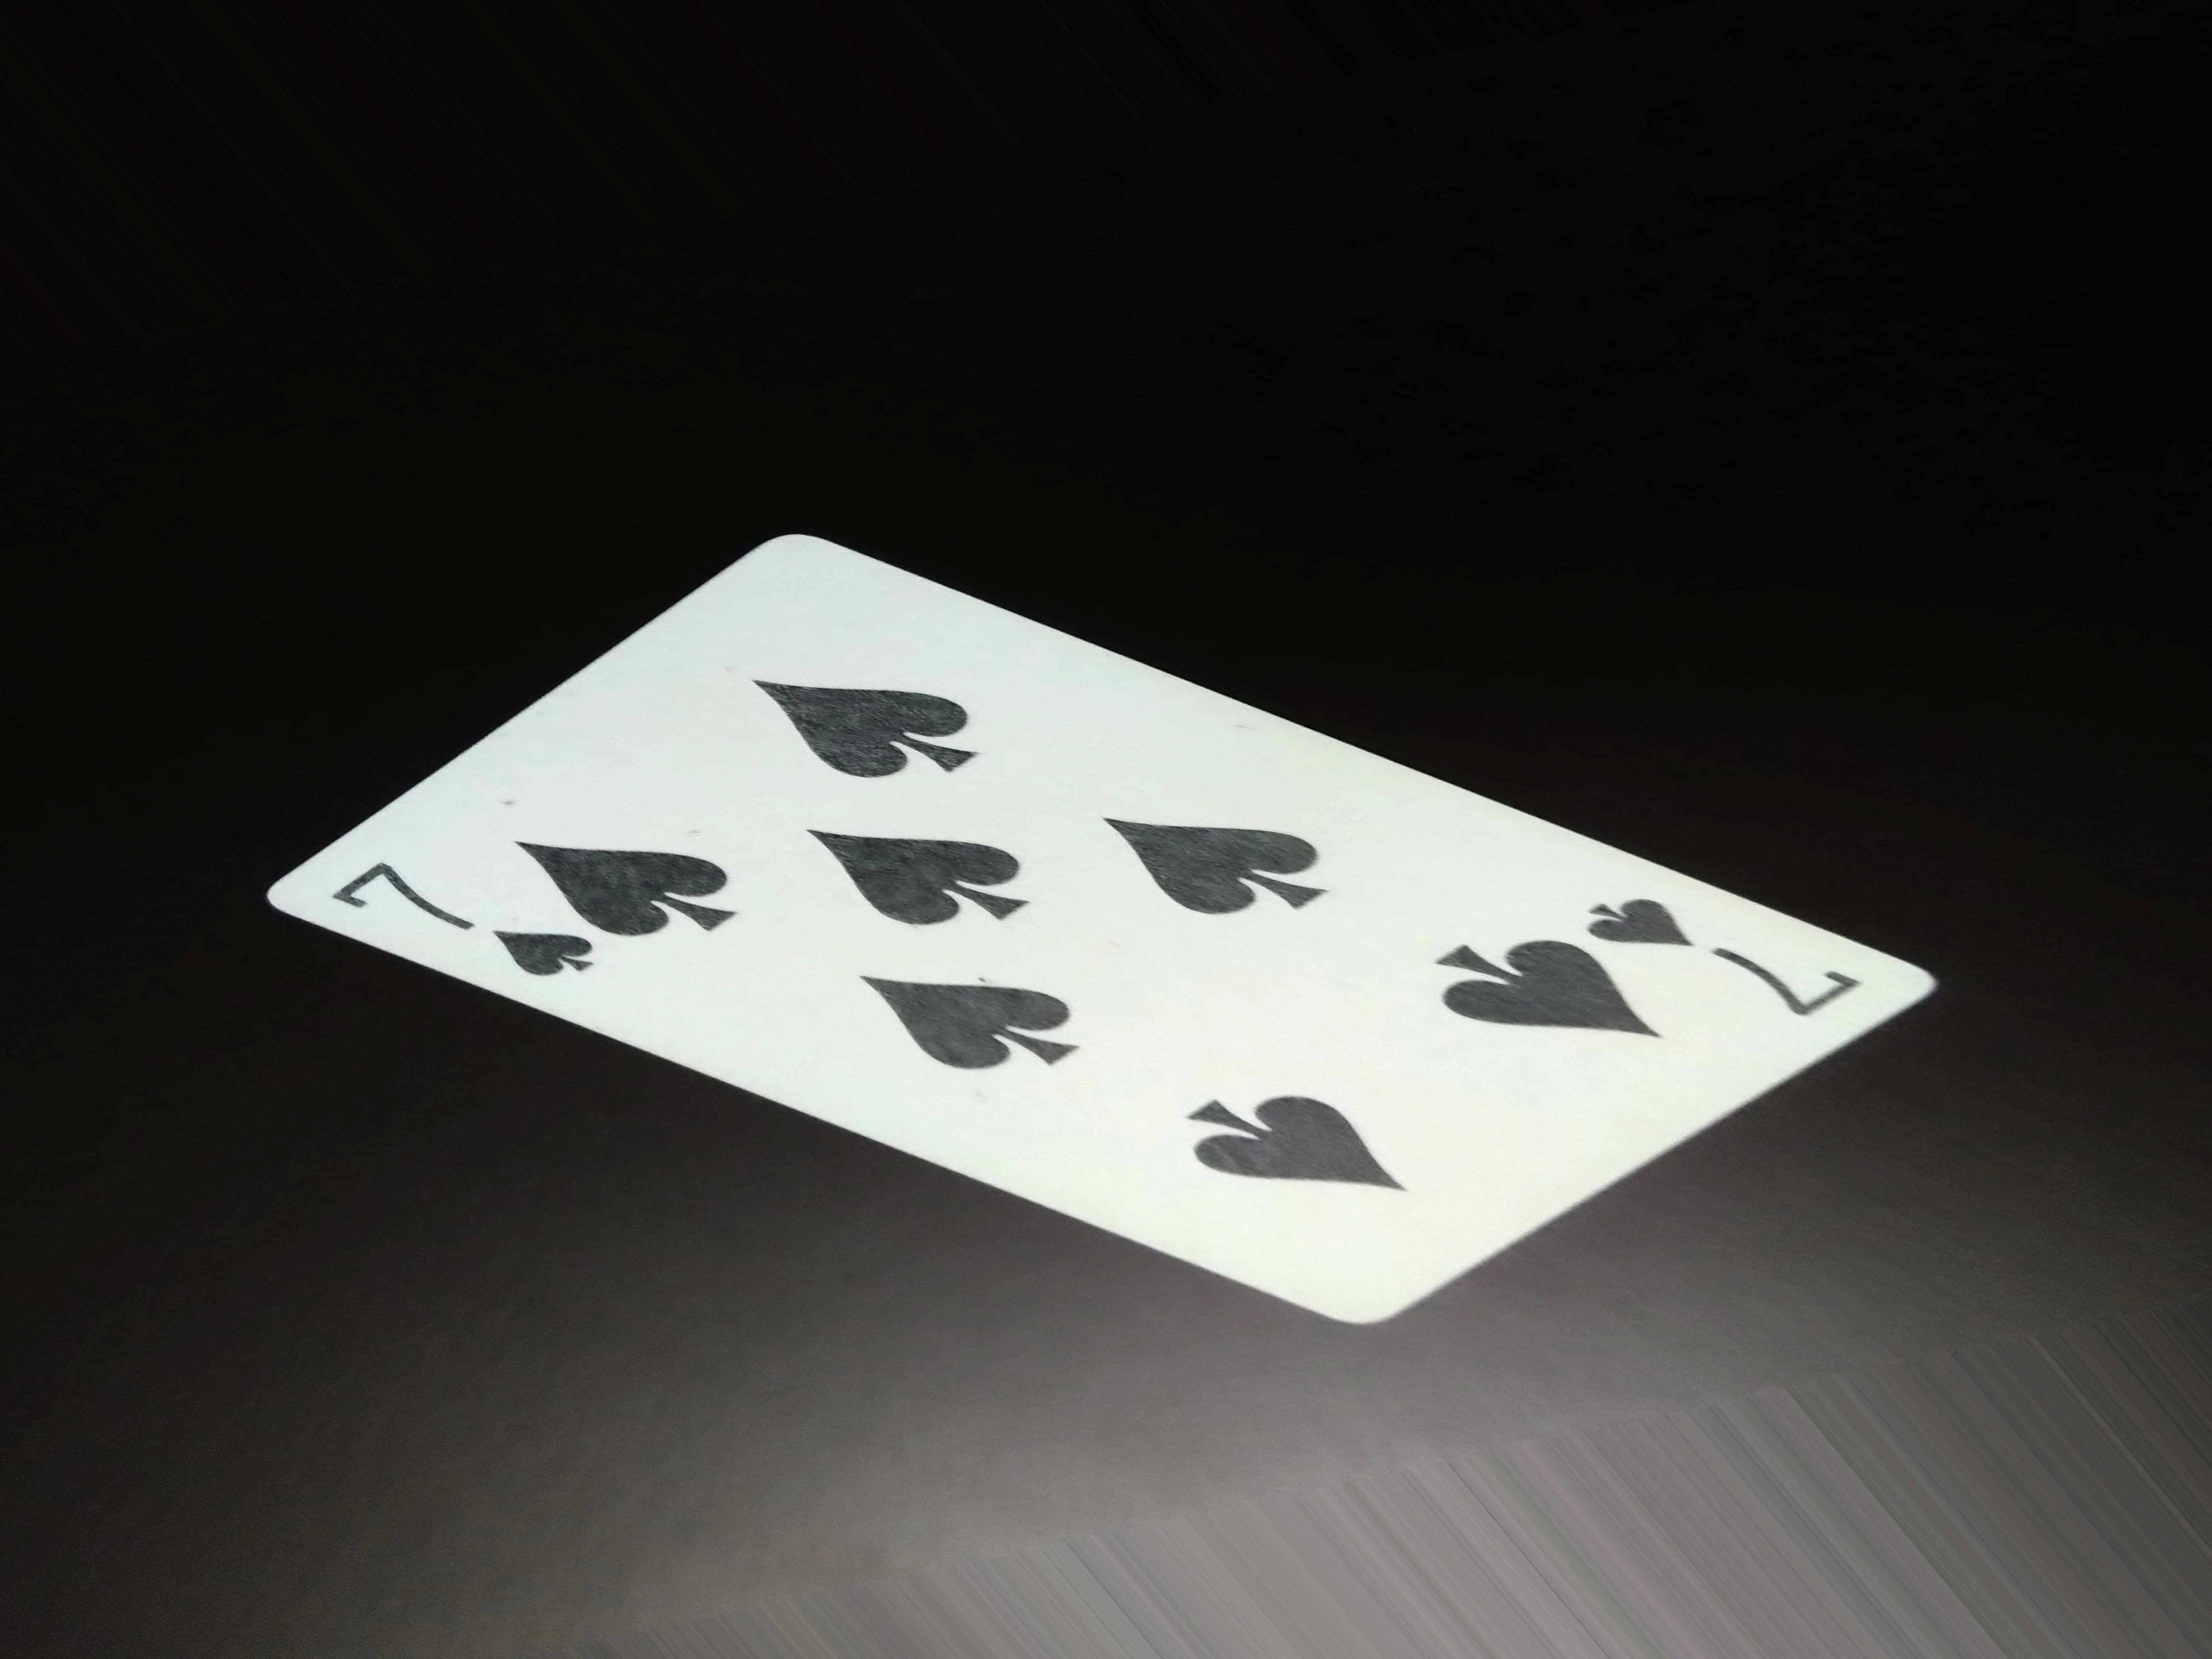7S: (1580, 875, 1886, 1025)
